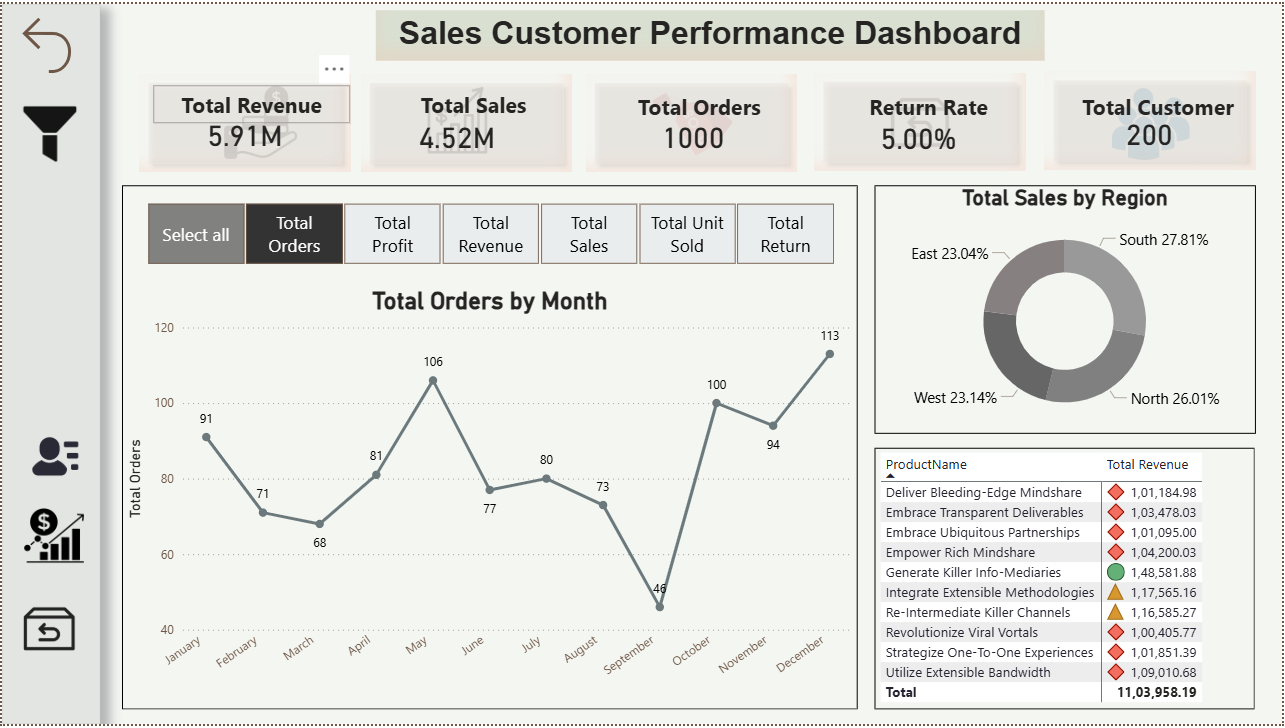

This screenshot's page, from the dashboard's own definition file:
{"tool":"powerbi","page":{"name":"Main","canvas":[1280,720],"ordinal":0},"visuals":[{"type":"shape","box":[0,0,98.6,720],"z":0,"group":"g1"},{"type":"image","box":[167.2,76.2,182.5,83.8],"z":0},{"type":"actionButton","box":[10,5.7,81.4,70],"z":1000,"group":"g1"},{"type":"image","box":[365,76.4,180,80],"z":1000},{"type":"image","box":[622.7,80,136,80],"z":2000},{"type":"image","box":[7.1,100,81.4,60],"z":2000,"group":"g1"},{"type":"image","box":[1058.7,80,180,80],"z":3000},{"type":"image","box":[17.1,417.1,68.6,71.4],"z":3000,"group":"g1"},{"type":"image","box":[828,80,181.3,76.7],"z":4000},{"type":"image","box":[21.4,498.6,61.4,65.7],"z":4000,"group":"g1"},{"type":"shape","box":[137.1,70,211.4,98.6],"z":5000},{"type":"image","box":[11.4,591.4,71.4,67.1],"z":5000,"group":"g1"},{"type":"card","fields":{"Values":["Measures Table.Total Revenue"]},"box":[152.9,104.3,180,53.6],"z":6000},{"type":"textbox","box":[374.3,5.7,668.6,50],"z":7000},{"type":"textbox","box":[151.4,81.4,197.1,38.6],"z":8000},{"type":"shape","box":[358.6,70,211.4,98.6],"z":9000},{"type":"card","fields":{"Values":["Measures Table.Total Profit"]},"box":[365,105.7,180,52.1],"z":10000},{"type":"textbox","box":[374.3,81.4,195.7,38.6],"z":11000},{"type":"shape","box":[584,70,211.3,98.7],"z":12000},{"type":"card","fields":{"Values":["Measures Table.Total Orders"]},"box":[600.7,105.3,180,54],"z":13000},{"type":"textbox","box":[598.6,82.9,197.1,38.6],"z":14000},{"type":"shape","box":[812.7,68.7,211.3,98.7],"z":15000},{"type":"card","fields":{"Values":["Measures Table.Return Rate (%)"]},"box":[826.7,108,180,52],"z":16000},{"type":"textbox","box":[828.6,82.9,195.7,38.6],"z":17000},{"type":"shape","box":[1042.9,67.1,211.4,98.6],"z":18000},{"type":"card","fields":{"Values":["Measures Table.Total Customer"]},"box":[1057.1,104.3,180,51.4],"z":19000},{"type":"textbox","box":[1057.1,82.9,197.1,47.1],"z":20000},{"type":"shape","box":[120,181.4,735.7,524.3],"z":21000},{"type":"slicer","fields":{"Values":["Parameter.Parameter"]},"box":[120,192.9,735.7,74.3],"z":22000},{"type":"lineChart","fields":{"Y":["Measures Table.Total Orders"],"Category":["Date_Dim.Date.Variation.Date Hierarchy.Year","Date_Dim.Date.Variation.Date Hierarchy.Quarter","Date_Dim.Date.Variation.Date Hierarchy.Month","Date_Dim.Date.Variation.Date Hierarchy.Day"]},"box":[120,282.9,735.7,411.4],"z":23000},{"type":"shape","box":[872.9,181.4,381.4,248.6],"z":24000},{"type":"donutChart","fields":{"Category":["Customer_Dim.Region"],"Y":["Measures Table.Total Sales"]},"box":[872.9,181.8,380.9,248.2],"z":25000},{"type":"group","id":"g1","title":"menu","box":[0,0,99.6,719.9],"z":26000},{"type":"shape","box":[873.1,443.9,380.3,261.7],"z":27000},{"type":"pivotTable","fields":{"Rows":["Product_Dim.ProductName"],"Values":["Measures Table.Total Revenue"]},"box":[873.8,443.8,381.2,261.2],"z":28000}]}

Visuals, with their boxes on the page's 1280x720 design canvas (x1, y1, x2, y2). These are canvas units, not pixel positions in the 1285x728 screenshot, which may show the page scaled, cropped or inside an application window:
shape: rect(0, 0, 99, 720)
image: rect(167, 76, 350, 160)
actionButton: rect(10, 6, 91, 76)
image: rect(365, 76, 545, 156)
image: rect(623, 80, 759, 160)
image: rect(7, 100, 88, 160)
image: rect(1059, 80, 1239, 160)
image: rect(17, 417, 86, 488)
image: rect(828, 80, 1009, 157)
image: rect(21, 499, 83, 564)
shape: rect(137, 70, 348, 169)
image: rect(11, 591, 83, 658)
card - Measures Table.Total Revenue: rect(153, 104, 333, 158)
textbox: rect(374, 6, 1043, 56)
textbox: rect(151, 81, 348, 120)
shape: rect(359, 70, 570, 169)
card - Measures Table.Total Profit: rect(365, 106, 545, 158)
textbox: rect(374, 81, 570, 120)
shape: rect(584, 70, 795, 169)
card - Measures Table.Total Orders: rect(601, 105, 781, 159)
textbox: rect(599, 83, 796, 122)
shape: rect(813, 69, 1024, 167)
card - Measures Table.Return Rate (%): rect(827, 108, 1007, 160)
textbox: rect(829, 83, 1024, 122)
shape: rect(1043, 67, 1254, 166)
card - Measures Table.Total Customer: rect(1057, 104, 1237, 156)
textbox: rect(1057, 83, 1254, 130)
shape: rect(120, 181, 856, 706)
slicer - Parameter.Parameter: rect(120, 193, 856, 267)
lineChart - Measures Table.Total Orders x Date_Dim.Date.Variation.Date Hierarchy.Year: rect(120, 283, 856, 694)
shape: rect(873, 181, 1254, 430)
donutChart - Customer_Dim.Region x Measures Table.Total Sales: rect(873, 182, 1254, 430)
"menu" group: rect(0, 0, 100, 720)
shape: rect(873, 444, 1253, 706)
pivotTable - Product_Dim.ProductName x Measures Table.Total Revenue: rect(874, 444, 1255, 705)
